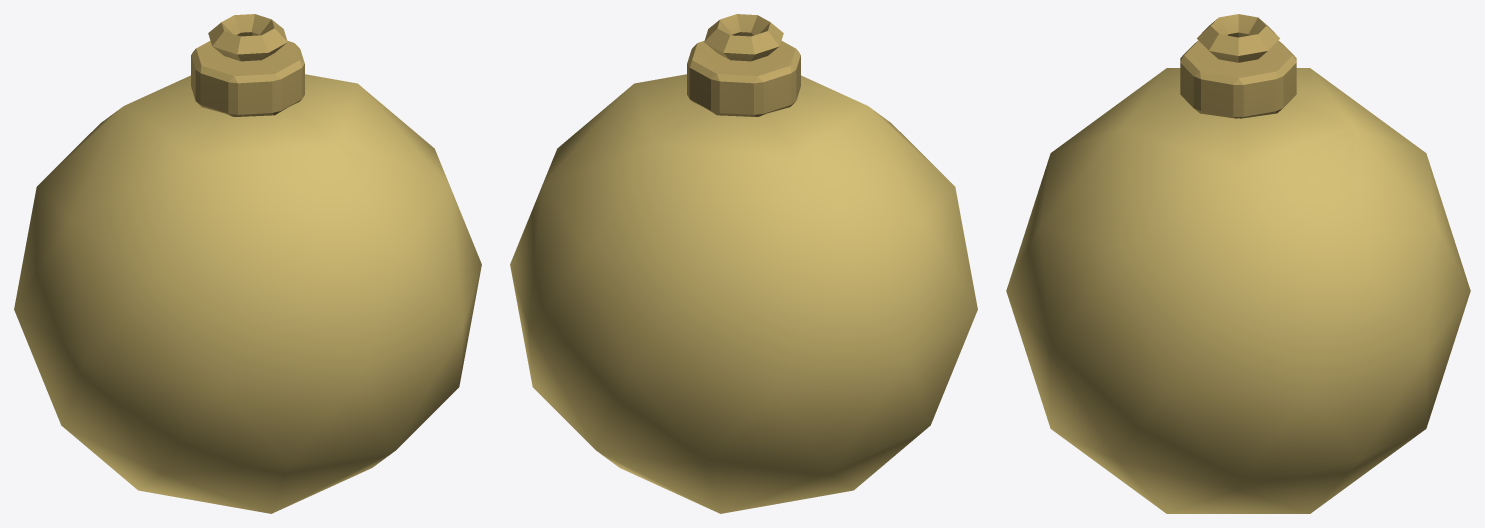
The model's file is resident_bauble_gold.glb.
3 views of the same model, side by side, from view 1: azimuth 30°, elevation 25°; view 2: azimuth 150°, elevation 25°; view 3: azimuth 270°, elevation 25° (orthographic).
Bounding box in the file's own units: 1 × 1.13 × 1.
